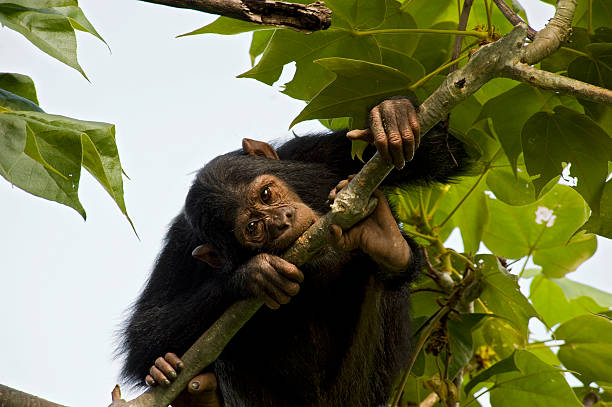chimpanzee: (155, 135, 349, 272)
